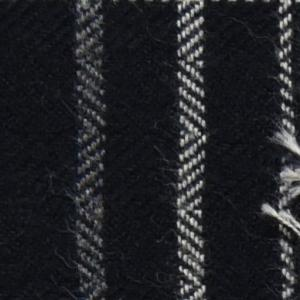Damage: (252, 119, 300, 247)
